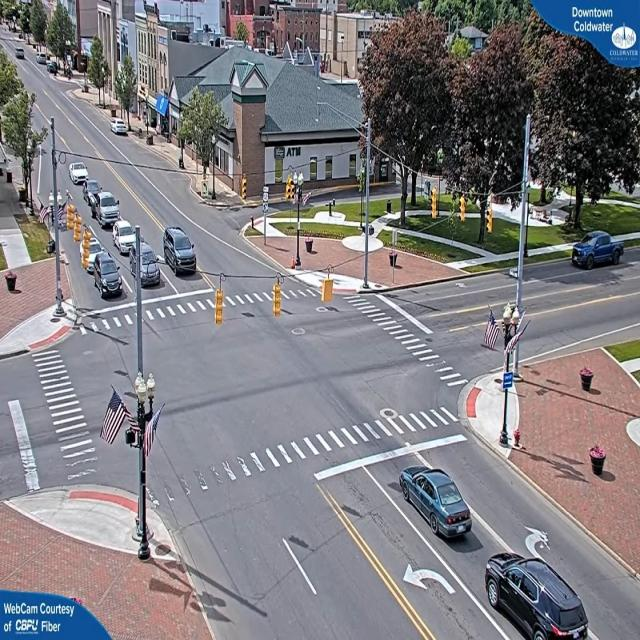car: (483, 553, 596, 640), (398, 468, 474, 540), (571, 232, 623, 270), (92, 248, 125, 298), (162, 228, 198, 272), (90, 188, 121, 228), (137, 246, 162, 286), (115, 222, 139, 254), (68, 162, 86, 186)
